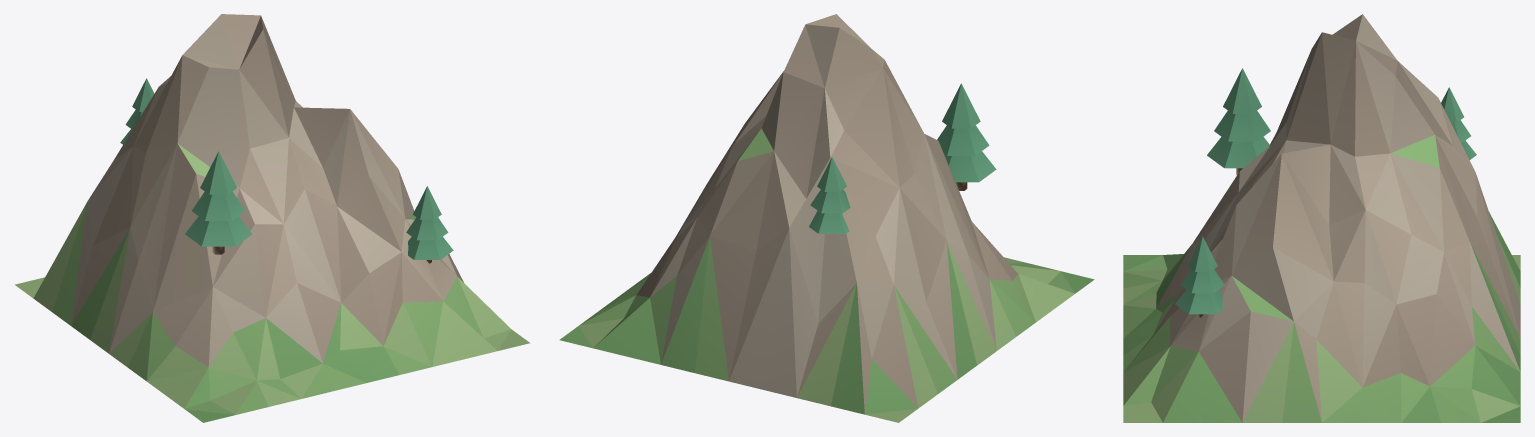
File: terrain-mountain-2.glb
3 renders of one model, left to right at view 1: azimuth 30°, elevation 25°; view 2: azimuth 150°, elevation 25°; view 3: azimuth 270°, elevation 25°, orthographic. The views are drawn at different scales.
Visible parts, largest first — view 1: terrain-mountain-2; view 2: terrain-mountain-2; view 3: terrain-mountain-2.
Boxes of the visible parts, x1,y1,x2,y2 form: terrain-mountain-2: (15, 14, 530, 422); terrain-mountain-2: (559, 14, 1094, 422); terrain-mountain-2: (1123, 14, 1520, 422).
Size of the model in its own units: 1 by 0.8572 by 1.
